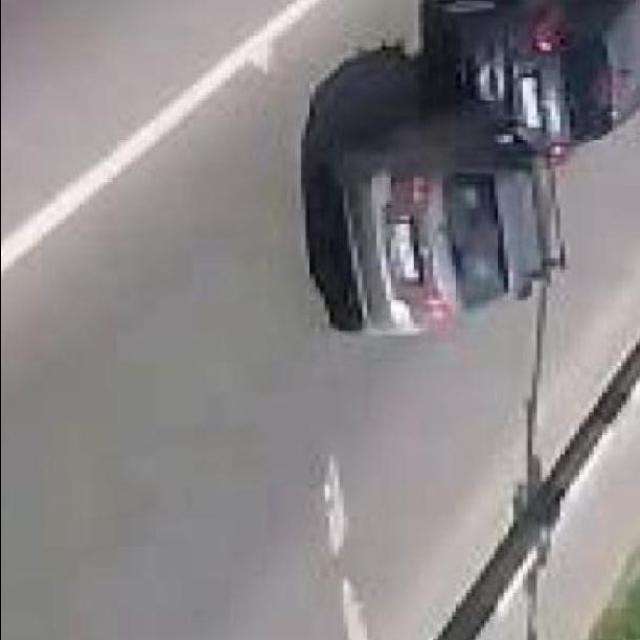accident: (312, 0, 640, 335)
